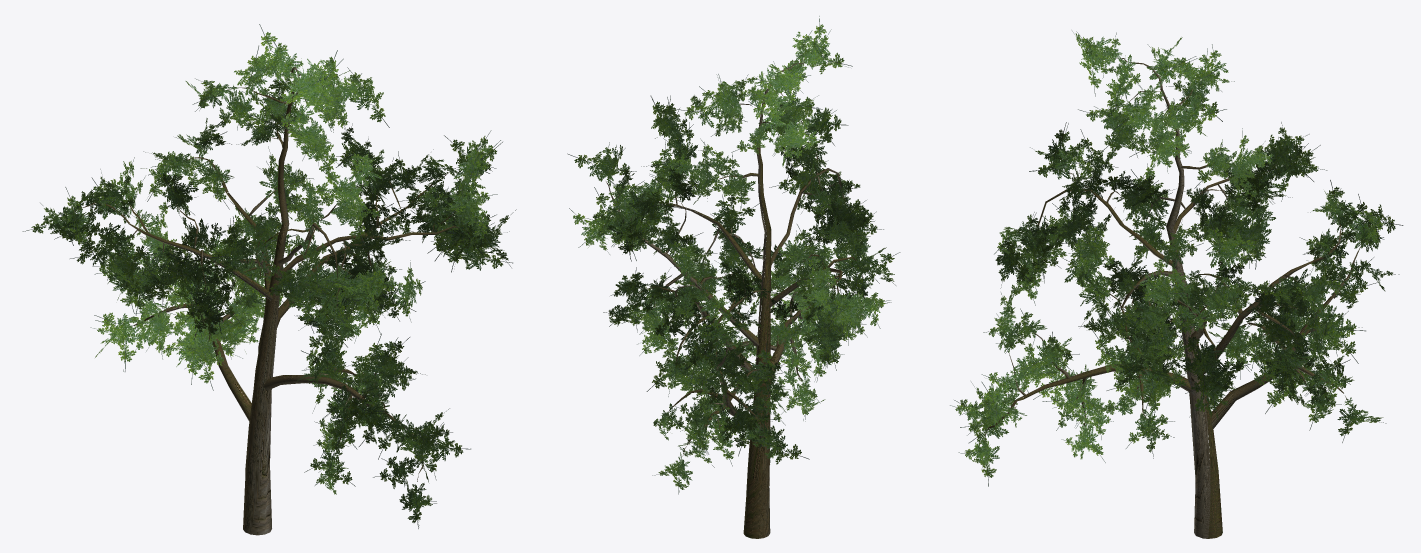
Rendered from ash_lod1.glb.
3 renders of one model, left to right at view 1: azimuth 30°, elevation 25°; view 2: azimuth 150°, elevation 25°; view 3: azimuth 270°, elevation 25°, orthographic. The views are drawn at different scales.
Visible parts, largest first — view 1: leaves, bark; view 2: leaves, bark; view 3: leaves, bark.
Part boxes in pixels (x1=…): leaves: x1=22, y1=24, x2=516, y2=528; bark: x1=74, y1=67, x2=469, y2=535; leaves: x1=567, y1=16, x2=900, y2=494; bark: x1=606, y1=61, x2=863, y2=538; leaves: x1=950, y1=31, x2=1403, y2=486; bark: x1=984, y1=54, x2=1370, y2=538.
Bounding box in the file's own units: 12.31 × 14.23 × 11.62.
Materials: 2 (2 with a texture image).
